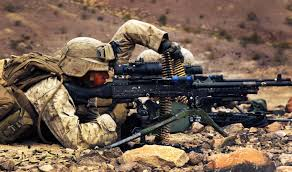Gun: (105, 69, 268, 108)
